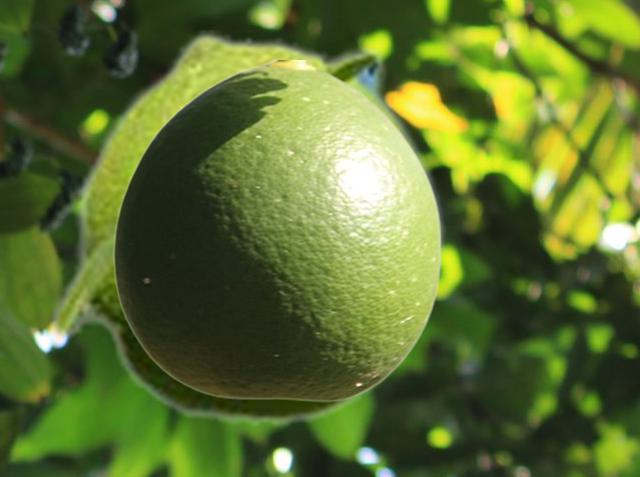dalandan: (45, 30, 447, 428), (112, 60, 441, 401)
